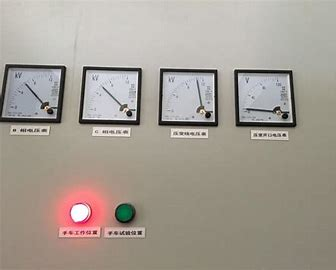pointer: (80, 66, 140, 121), (1, 64, 61, 118), (160, 68, 216, 123), (237, 69, 294, 123)
